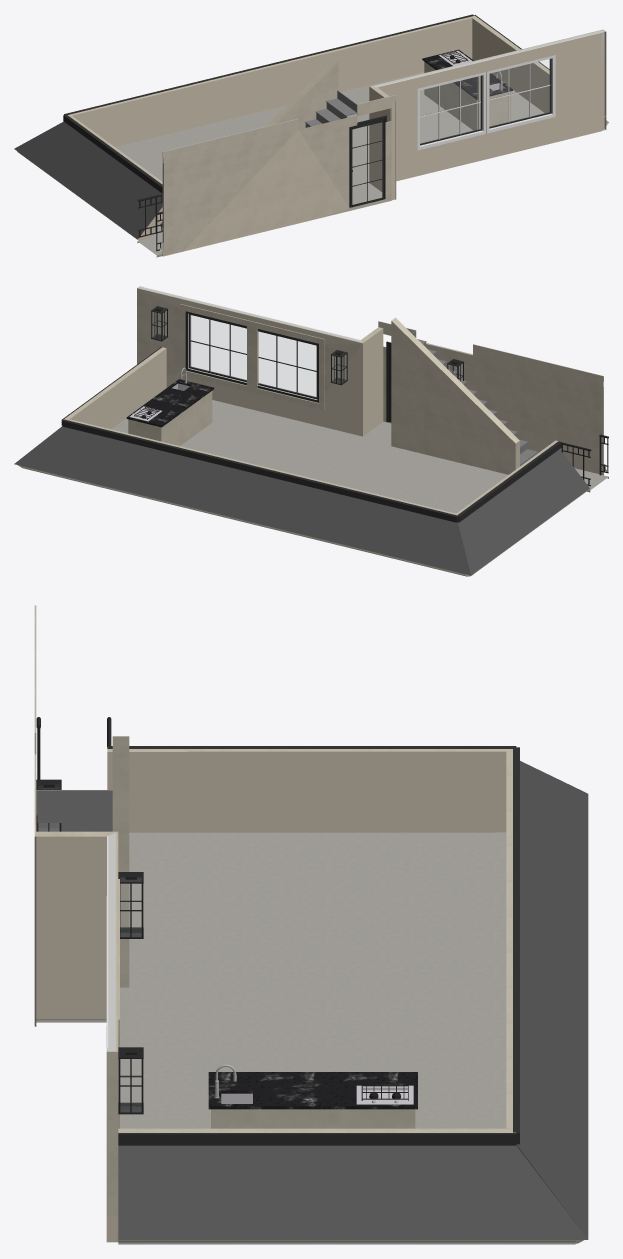
Rendered from rear-deck-874a5c4377d4.glb.
The picture shows the model from 3 angles, top to bottom: view 1: azimuth 30°, elevation 25°; view 2: azimuth 150°, elevation 25°; view 3: azimuth 270°, elevation 25°; orthographic projection. The views are drawn at different scales.
Visible parts, largest first — view 1: rear-deck-bd62734a7bc60eb7, rear-deck-32021a86c784f0e0, rear-deck-245f595ae2832e16, rear-deck-ded88bd99590d377, rear-deck-36ed5266b1bc40cd, rear-deck-85ede138eeba504d, rear-deck-cdd3b97a7e9637be, rear-deck-dd55bfb54febbe8b, rear-deck-b5f10ab9081c9955, rear-deck-7511cdbc362aca5e, rear-deck-6b027cd2e6bc0d64, rear-deck-09f90213aa0a4493 (+5 smaller); view 2: rear-deck-5febae1537653d02, rear-deck-ded88bd99590d377, rear-deck-bd62734a7bc60eb7, rear-deck-7511cdbc362aca5e, rear-deck-245f595ae2832e16, rear-deck-36ed5266b1bc40cd, rear-deck-cdd3b97a7e9637be, rear-deck-85ede138eeba504d, rear-deck-dd55bfb54febbe8b, rear-deck-d7a70b5818f54477, rear-deck-6b027cd2e6bc0d64, rear-deck-b5f10ab9081c9955 (+7 smaller); view 3: rear-deck-ded88bd99590d377, rear-deck-0e7e1de83ff8e24c, rear-deck-18b8f93424e26a44, rear-deck-5febae1537653d02, rear-deck-6b027cd2e6bc0d64, rear-deck-385241de3d752b47, rear-deck-5e5272df00660e4c, rear-deck-b5f10ab9081c9955, rear-deck-245f595ae2832e16, rear-deck-7511cdbc362aca5e, rear-deck-d7a70b5818f54477, rear-deck-32021a86c784f0e0 (+8 smaller).
Boxes of the visible parts, <box> form: rear-deck-bd62734a7bc60eb7: <box>162,95,396,256</box>; rear-deck-32021a86c784f0e0: <box>68,16,472,146</box>; rear-deck-245f595ae2832e16: <box>369,29,604,181</box>; rear-deck-ded88bd99590d377: <box>115,71,544,253</box>; rear-deck-36ed5266b1bc40cd: <box>14,121,162,238</box>; rear-deck-85ede138eeba504d: <box>417,72,486,150</box>; rear-deck-cdd3b97a7e9637be: <box>487,55,555,133</box>; rear-deck-dd55bfb54febbe8b: <box>472,15,549,112</box>; rear-deck-b5f10ab9081c9955: <box>424,61,511,130</box>; rear-deck-7511cdbc362aca5e: <box>266,59,338,129</box>; rear-deck-6b027cd2e6bc0d64: <box>369,86,395,200</box>; rear-deck-09f90213aa0a4493: <box>349,115,386,207</box>; rear-deck-5febae1537653d02: <box>14,426,470,575</box>; rear-deck-ded88bd99590d377: <box>111,400,602,513</box>; rear-deck-bd62734a7bc60eb7: <box>378,321,603,475</box>; rear-deck-7511cdbc362aca5e: <box>391,317,519,474</box>; rear-deck-245f595ae2832e16: <box>137,287,363,436</box>; rear-deck-36ed5266b1bc40cd: <box>458,449,589,575</box>; rear-deck-cdd3b97a7e9637be: <box>185,311,246,385</box>; rear-deck-85ede138eeba504d: <box>257,329,318,402</box>; rear-deck-dd55bfb54febbe8b: <box>63,347,166,429</box>; rear-deck-d7a70b5818f54477: <box>62,419,457,522</box>; rear-deck-6b027cd2e6bc0d64: <box>361,327,383,435</box>; rear-deck-b5f10ab9081c9955: <box>128,391,212,445</box>; rear-deck-ded88bd99590d377: <box>36,832,506,1128</box>; rear-deck-0e7e1de83ff8e24c: <box>118,1145,587,1239</box>; rear-deck-18b8f93424e26a44: <box>107,749,511,832</box>; rear-deck-5febae1537653d02: <box>516,761,588,1239</box>; rear-deck-6b027cd2e6bc0d64: <box>36,831,117,1018</box>; rear-deck-385241de3d752b47: <box>208,1072,417,1109</box>; rear-deck-5e5272df00660e4c: <box>118,1133,516,1145</box>; rear-deck-b5f10ab9081c9955: <box>211,1109,415,1128</box>; rear-deck-245f595ae2832e16: <box>107,832,118,1242</box>; rear-deck-7511cdbc362aca5e: <box>112,736,129,987</box>; rear-deck-d7a70b5818f54477: <box>513,747,519,1144</box>; rear-deck-32021a86c784f0e0: <box>506,749,512,1131</box>.
Bounding box in the file's own units: 12.61 × 3.37 × 6.62.
24 materials, 5 textured.
